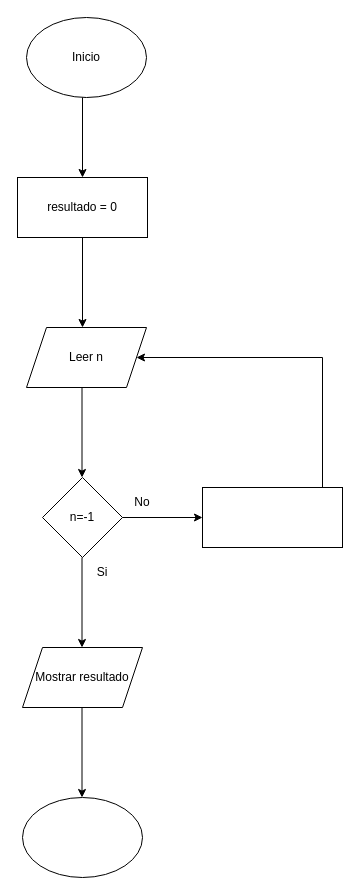
Some shapes in this 360 by 895 pixel diagram are drawn without their labels. The shapes that lost their labels are listed below. From the top down, each one's centre as x and y in pixels, then its label:
At point 272,517: "resultado= resultado + n".
At point 82,837: "Fin".
